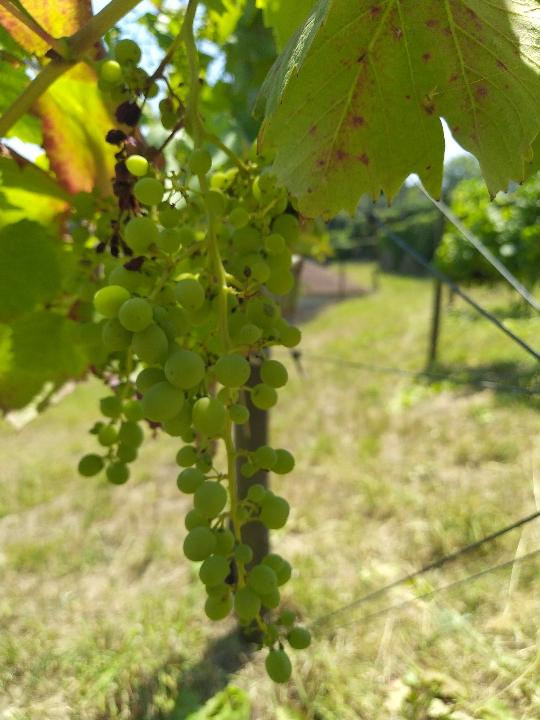grape: (89, 144, 314, 688), (89, 95, 165, 278)
